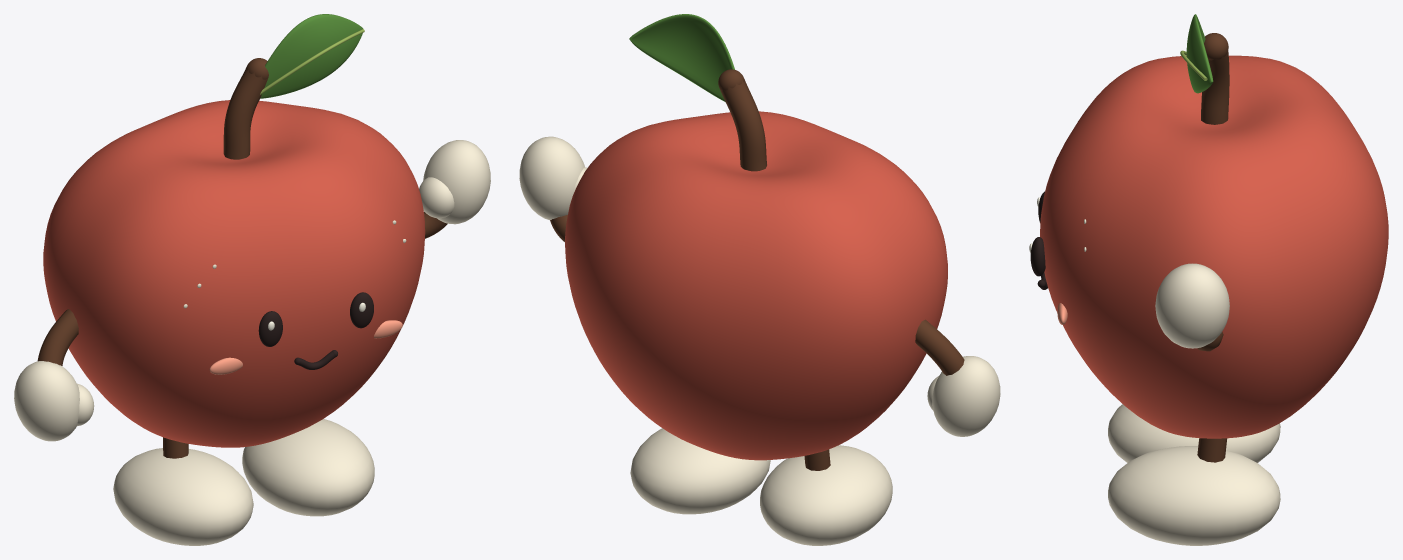
Rendered from pip-apple-v2.glb.
The picture shows the model from 3 angles, left to right: view 1: azimuth 30°, elevation 25°; view 2: azimuth 150°, elevation 25°; view 3: azimuth 270°, elevation 25°; orthographic projection. The views are drawn at different scales.
Parts seen in each view (by area): view 1: Apple body, Soft shoe, Soft shoe.001, Apple leaf, Little mitten, Little mitten.001, Bent apple stem, Apple arm, Mitten thumb.001, Seed eye.001, Seed eye; view 2: Apple body, Soft shoe, Soft shoe.001, Apple leaf, Little mitten, Little mitten.001, Bent apple stem, Apple arm; view 3: Apple body, Soft shoe.001, Little mitten.001, Soft shoe, Bent apple stem, Apple leaf, Little leg.001, Rounded stem tip, Seed eye.001.
Boxes of the visible parts, x1,y1,x2,y2 form: Apple body: (43, 100, 425, 447); Soft shoe: (113, 448, 253, 545); Soft shoe.001: (242, 419, 374, 516); Apple leaf: (260, 14, 363, 98); Little mitten: (14, 361, 79, 441); Little mitten.001: (423, 140, 490, 224); Bent apple stem: (223, 67, 268, 159); Apple arm: (37, 309, 78, 365); Mitten thumb.001: (419, 177, 454, 218); Seed eye.001: (350, 292, 373, 328); Seed eye: (258, 311, 282, 346); Apple body: (565, 111, 947, 460); Soft shoe: (760, 445, 892, 545); Soft shoe.001: (630, 428, 770, 514); Apple leaf: (629, 14, 734, 101); Little mitten: (932, 356, 1000, 436); Little mitten.001: (519, 136, 584, 220); Bent apple stem: (720, 79, 766, 171); Apple arm: (915, 319, 964, 375); Apple body: (1040, 55, 1388, 438); Soft shoe.001: (1108, 446, 1280, 545); Little mitten.001: (1155, 263, 1229, 348); Soft shoe: (1108, 404, 1280, 462); Bent apple stem: (1201, 50, 1229, 124); Apple leaf: (1186, 14, 1213, 93); Little leg.001: (1197, 438, 1227, 462); Rounded stem tip: (1204, 33, 1228, 60); Seed eye.001: (1030, 237, 1045, 276).
Size of the model in its own units: 1.87 by 1.86 by 1.16.
